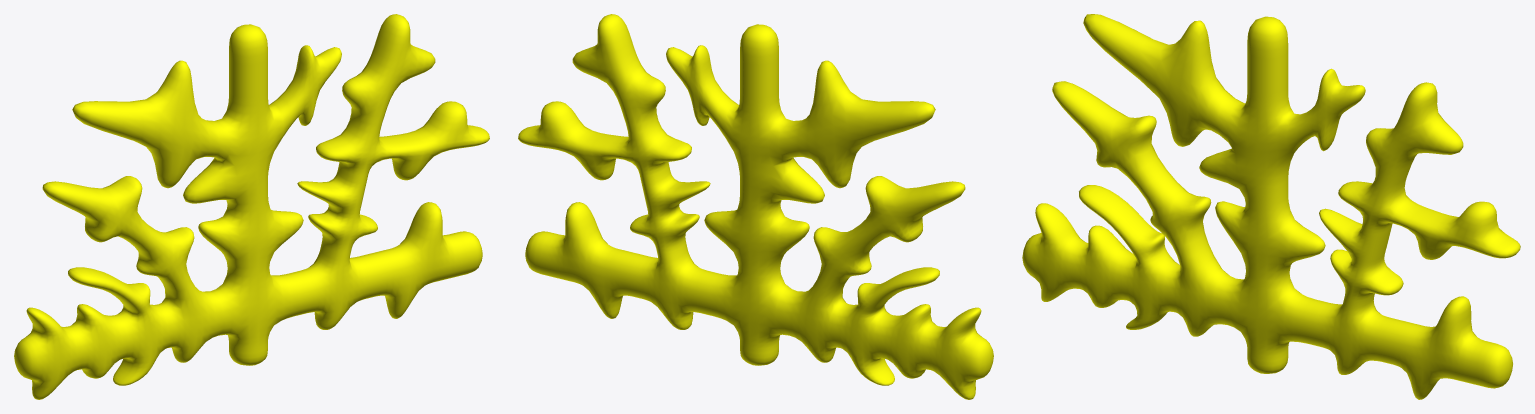
File: Yellow Coral.fbx
3 renders of one model, left to right at view 1: azimuth 30°, elevation 25°; view 2: azimuth 150°, elevation 25°; view 3: azimuth 330°, elevation 25°, orthographic. The views are drawn at different scales.
Parts seen in each view (by area): view 1: Yellow_Coral; view 2: Yellow_Coral; view 3: Yellow_Coral.
Boxes of the visible parts, <box> form: Yellow_Coral: <box>14,14,489,399</box>; Yellow_Coral: <box>518,14,993,399</box>; Yellow_Coral: <box>1022,14,1520,399</box>.
Bounding box in the file's own units: 5.25 × 3.6 × 0.396.
